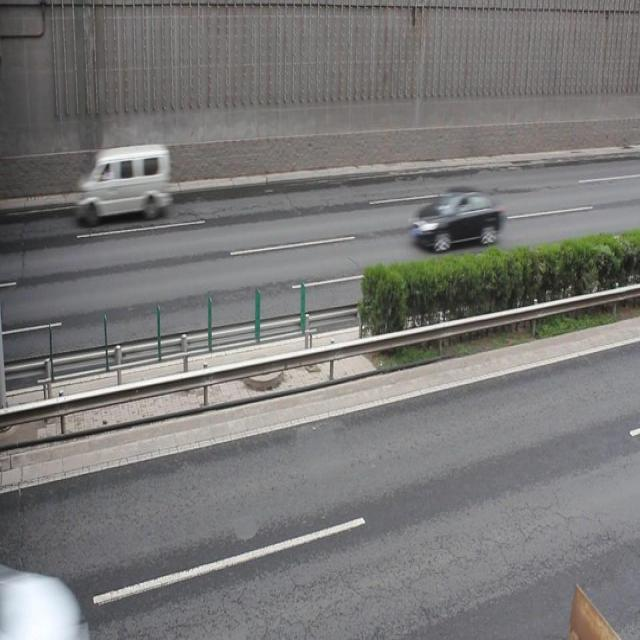car: (410, 186, 501, 255)
truck: (76, 144, 172, 220)
